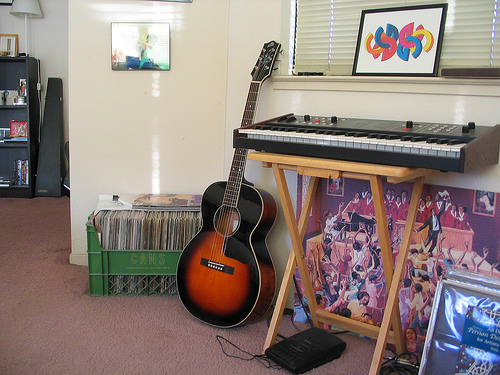guitar: (175, 40, 286, 329)
